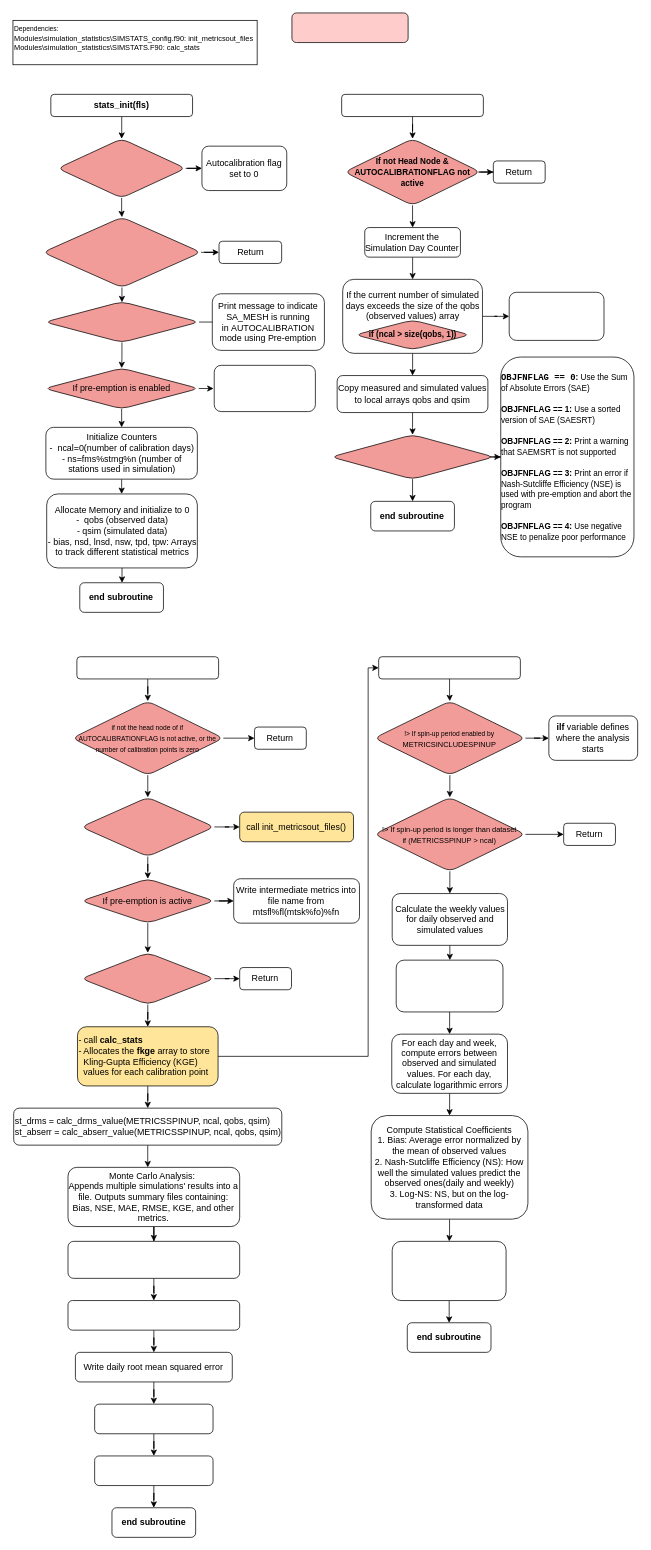
Some shapes in this 651 by 1550 pixel diagram are drawn without their labels. The shapes that lost their labels are listed below. From the top down, each one's centre as x and y in pixels, then its label:
At pixel 349 27: "SIMSTATS.f90".
At pixel 412 105: "stats_update_stfl_daily(fls)".
At pixel 121 168: "If no stations are defined (fms%stmg%n)".
At pixel 121 251: "If process is not the head node & Autocalibration is not active".
At pixel 121 321: "If pre-emption mode is active".
At pixel 556 316: "Expand arrays qobs and qsim (simulated values)".
At pixel 264 388: "Open file and read the best calibration value and store into ( fbest )".
At pixel 412 456: "if (mtsflg%PREEMPTIONFLAG == 1)".
At pixel 147 667: "stats_write(fls)".
At pixel 449 667: "calc_stats(obs, sim, n, bias, nsd, lnsd, nsw, tpd)".
At pixel 147 827: "if (.not. allocated(mtsfl%fl))".
At pixel 147 978: "if (METRICSSPINUP > ncal)".
At pixel 449 985: "Compute the mean of daily and weekly observed values (ignoring negative values)".
At pixel 153 1259: "Write Nash-Sutcliffe coefficient of daily streamflow values".
At pixel 448 1271: "Calculate Time-to-Peak daily and weekly (TPD and TPW)".
At pixel 153 1315: "Write Nash-Sutcliffe coefficient of weekly streamflow values".
At pixel 153 1418: "Write mean absolute error".
At pixel 153 1470: "Write the summary of the metrics to file".
